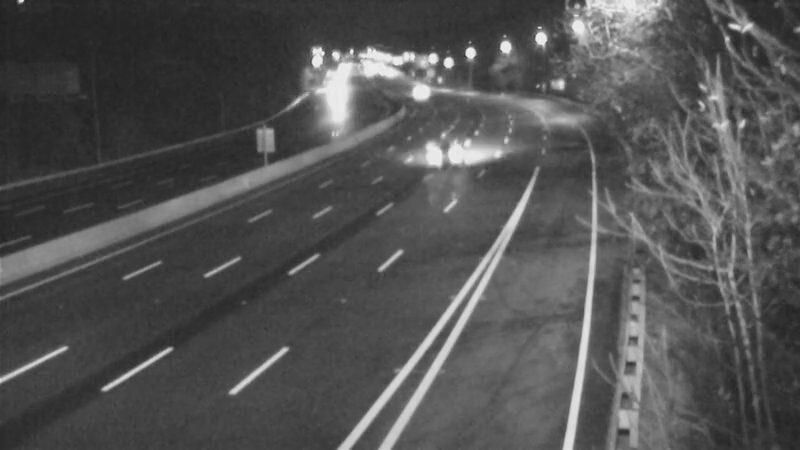vehicle: (393, 69, 443, 119), (423, 120, 473, 170), (307, 79, 357, 129)
